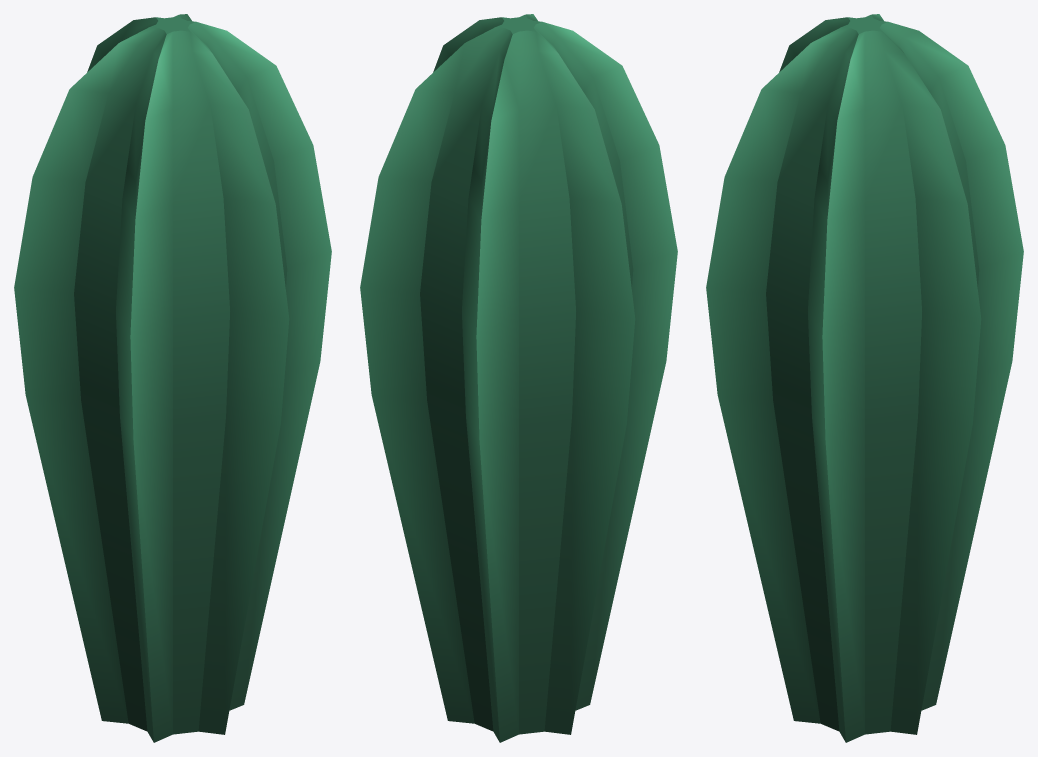
File: Cactus_D_1.fbx
The picture shows the model from 3 angles, left to right: view 1: azimuth 30°, elevation 25°; view 2: azimuth 150°, elevation 25°; view 3: azimuth 270°, elevation 25°; orthographic projection.
Parts seen in each view (by area): view 1: Cactus_D_1; view 2: Cactus_D_1; view 3: Cactus_D_1.
Boxes of the visible parts, x1,y1,x2,y2 form: Cactus_D_1: (14, 14, 331, 742); Cactus_D_1: (360, 14, 677, 742); Cactus_D_1: (706, 14, 1023, 742).
Bounding box in the file's own units: 17.96 × 42.94 × 17.96.
